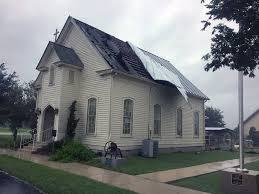sagging_roof: (81, 22, 175, 90)
